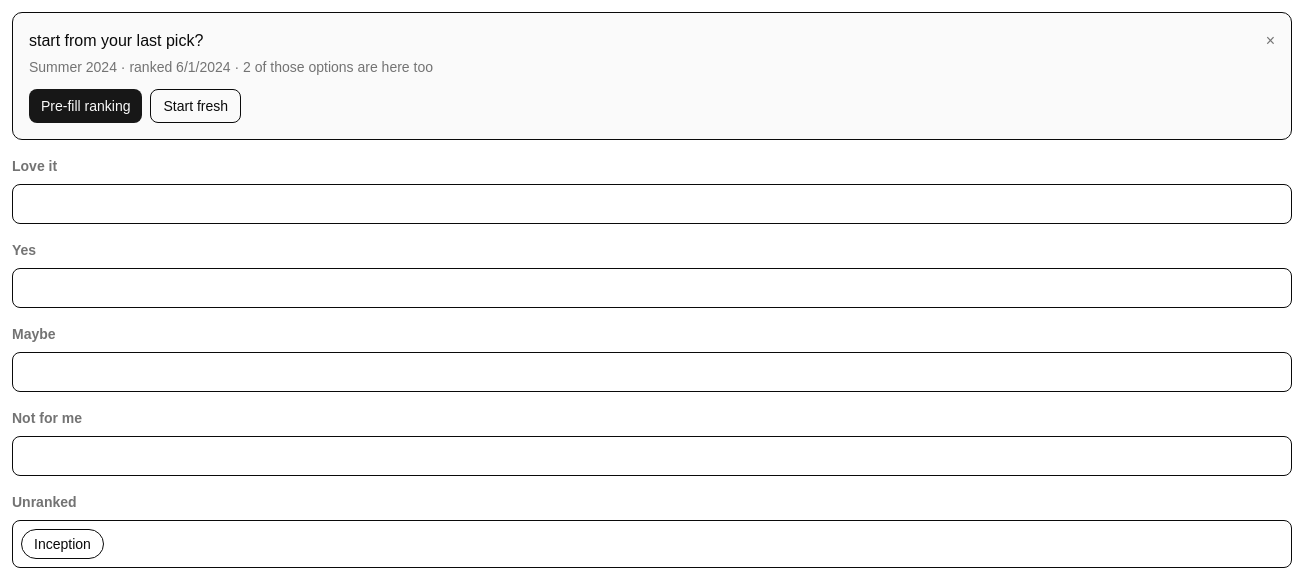
Test: TierRanking › prior pick banner › hides banner when Start fresh is clicked › removes the banner when the user clicks Start fresh
Click the button "Start fresh" at (196,106), box [150,89,241,123]
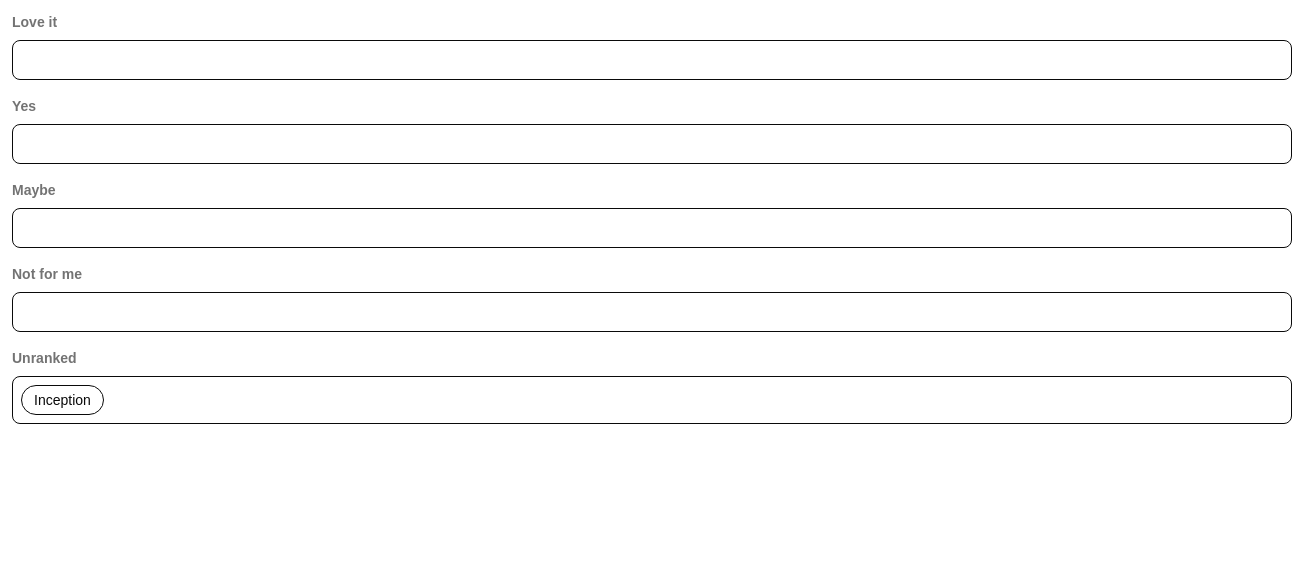
Check: the button "Pre-fill ranking" is gone
